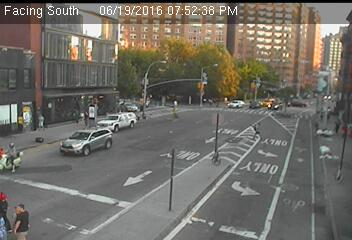neg: (106, 46, 138, 88), (229, 99, 260, 139), (276, 93, 304, 130), (212, 150, 235, 181), (43, 77, 66, 107), (267, 159, 289, 188), (213, 44, 235, 73), (153, 145, 173, 172), (319, 66, 338, 90), (161, 188, 179, 212), (109, 121, 126, 144), (179, 82, 195, 103), (293, 48, 308, 67)
pos: (11, 197, 40, 236)
